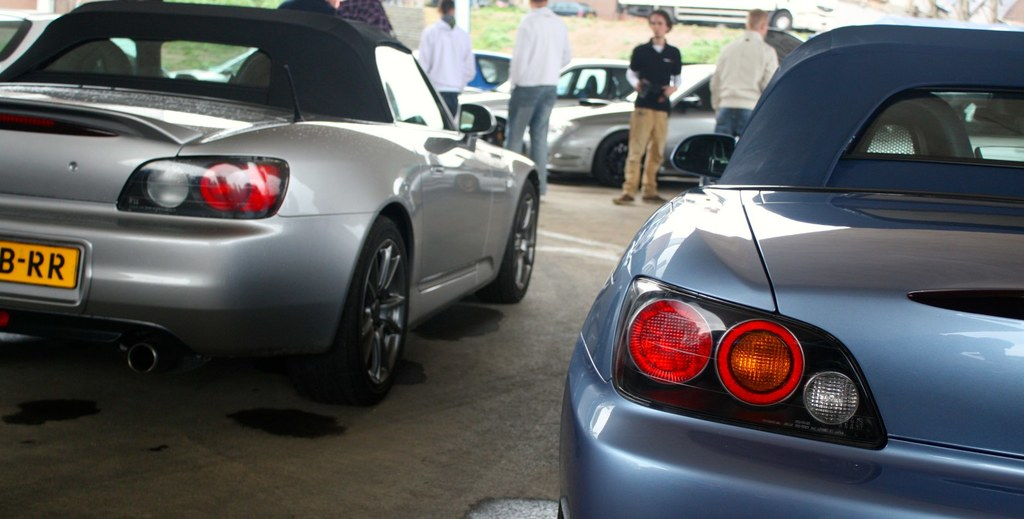Person: (276, 0, 779, 204)
